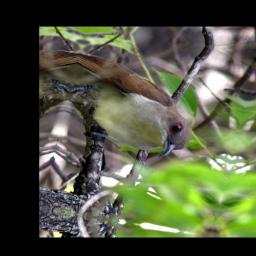Cuckoo: (57, 53, 208, 163)
